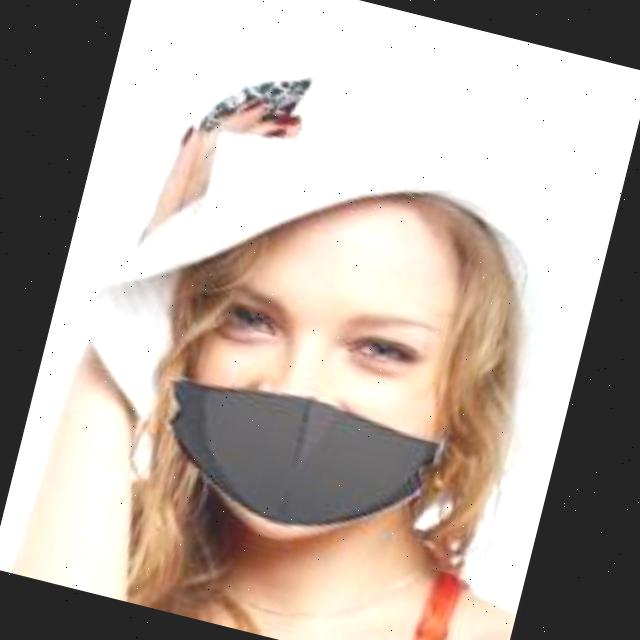suspicion: (118, 85, 552, 596)
